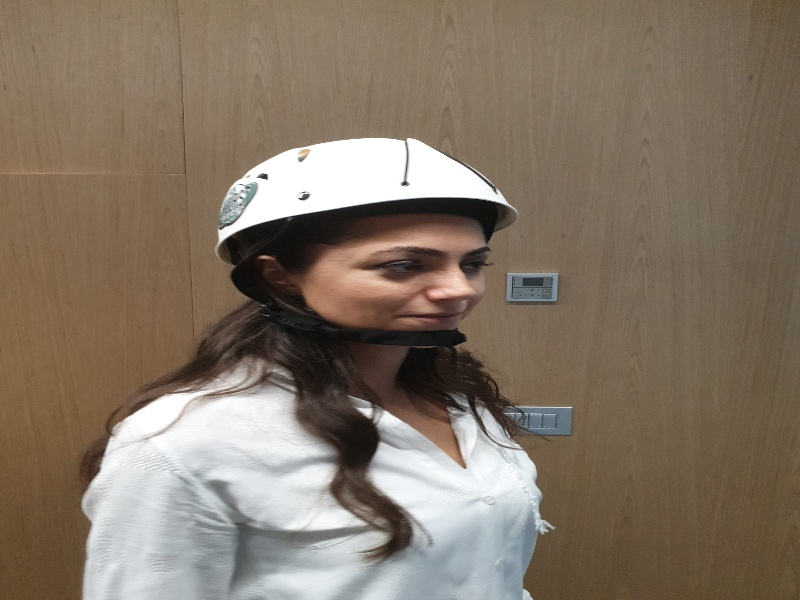Baret: (220, 137, 522, 240)
